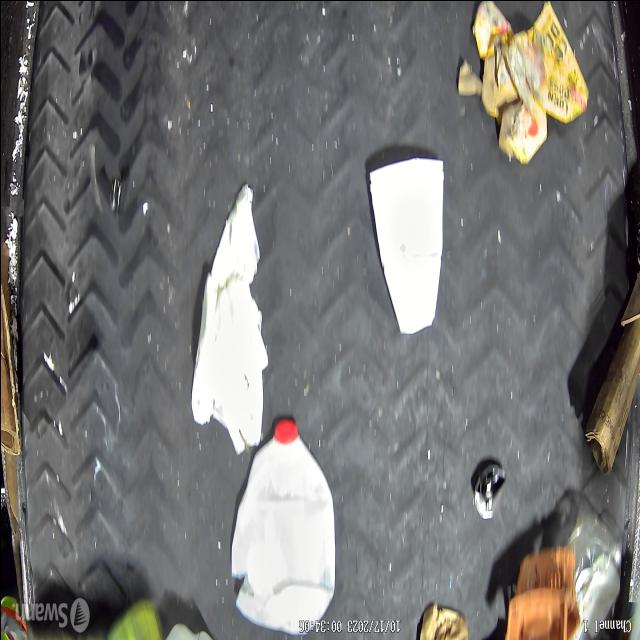milk_jug: (228, 415, 336, 633)
